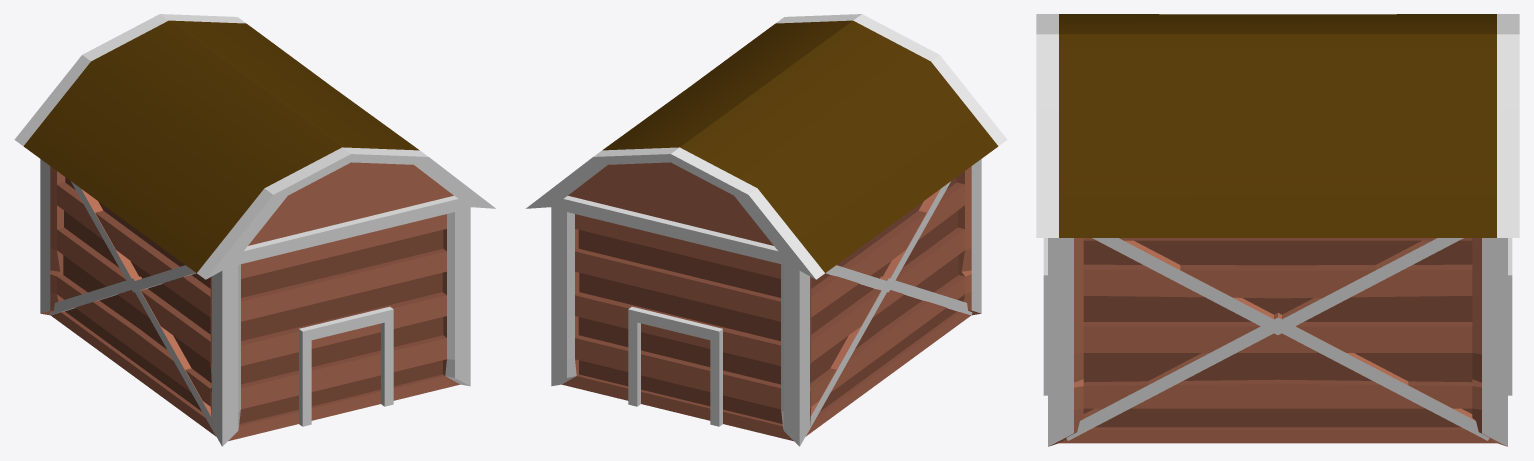
Rendered from Barn.fbx.
3 views of the same model, side by side, from view 1: azimuth 30°, elevation 25°; view 2: azimuth 150°, elevation 25°; view 3: azimuth 270°, elevation 25° (orthographic). The views are drawn at different scales.
Parts seen in each view (by area): view 1: pCube7; view 2: pCube7; view 3: pCube7.
Boxes of the visible parts, bbox=[...] form: pCube7: bbox=[14, 14, 495, 446]; pCube7: bbox=[526, 14, 1007, 446]; pCube7: bbox=[1036, 14, 1519, 446].
Bounding box in the file's own units: 160 × 140 × 182.
